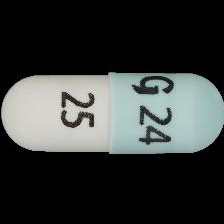68462-128: (0, 0, 224, 224)
